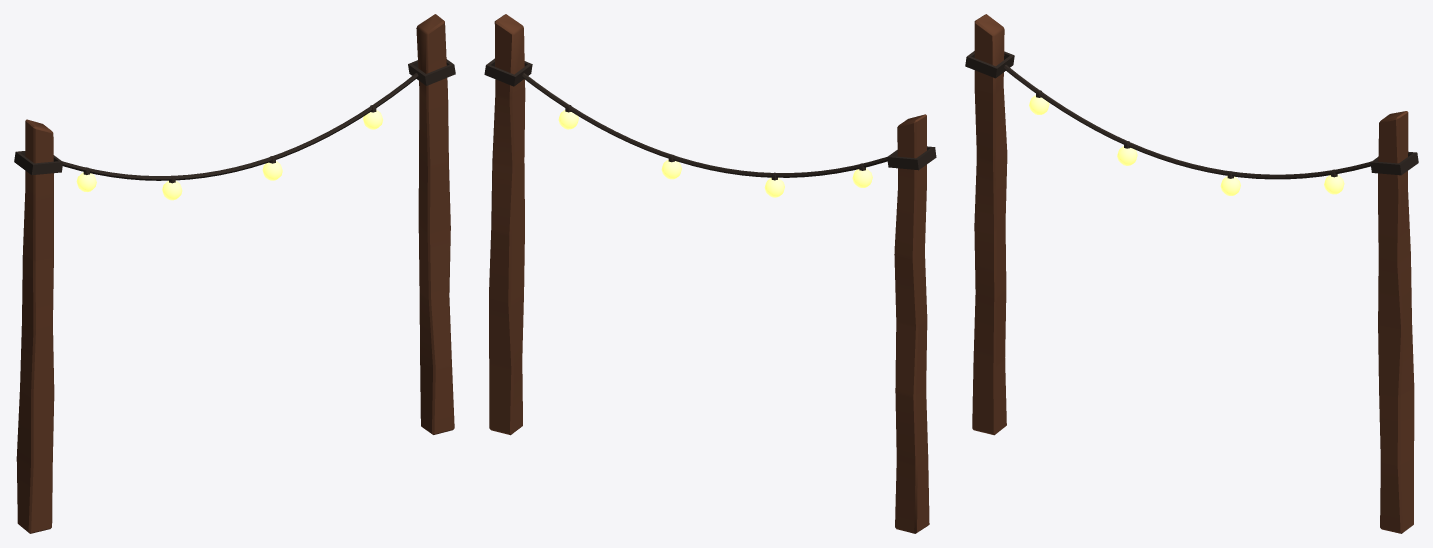
The model's file is string-lights.glb.
The picture shows the model from 3 angles, left to right: view 1: azimuth 30°, elevation 25°; view 2: azimuth 150°, elevation 25°; view 3: azimuth 330°, elevation 25°; orthographic projection.
Visible parts, largest first — view 1: post_left, post_right, cable, bulbs; view 2: post_right, post_left, cable, bulbs; view 3: post_right, post_left, cable, bulbs.
Part boxes in pixels (bbox=[...]): post_left: bbox=[16, 119, 54, 533]; post_right: bbox=[416, 14, 454, 434]; cable: bbox=[14, 59, 455, 183]; bulbs: bbox=[76, 110, 382, 200]; post_right: bbox=[489, 14, 525, 435]; post_left: bbox=[894, 114, 929, 533]; cable: bbox=[484, 58, 936, 180]; bulbs: bbox=[558, 110, 872, 197]; post_right: bbox=[1378, 111, 1414, 533]; post_left: bbox=[972, 14, 1007, 435]; cable: bbox=[965, 51, 1418, 179]; bulbs: bbox=[1029, 95, 1344, 195].
Size of the model in its own units: 2.66 by 2.43 by 0.2286.
